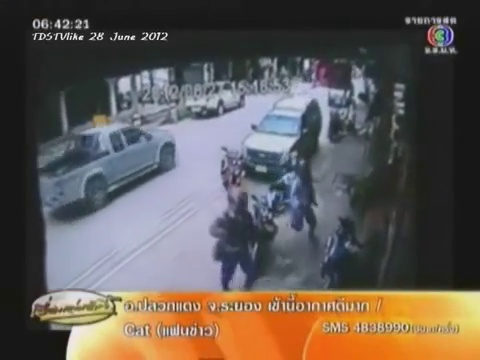helmet: (223, 188, 247, 212), (297, 159, 313, 176)
